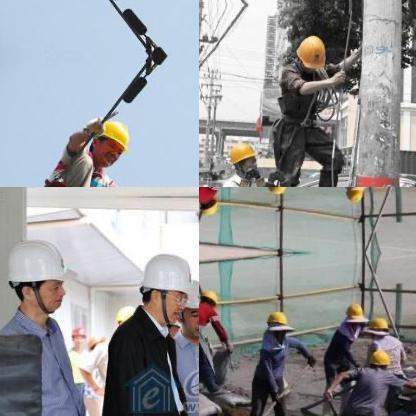Helmet: (6, 236, 64, 318), (140, 249, 192, 324), (92, 116, 134, 165), (295, 31, 327, 70), (227, 138, 259, 176), (177, 278, 198, 335), (342, 299, 366, 333), (263, 308, 290, 336), (365, 314, 389, 338), (199, 285, 221, 311), (199, 191, 221, 217), (69, 322, 89, 348), (341, 187, 368, 205), (367, 348, 391, 368), (263, 187, 292, 196), (364, 187, 390, 190)
